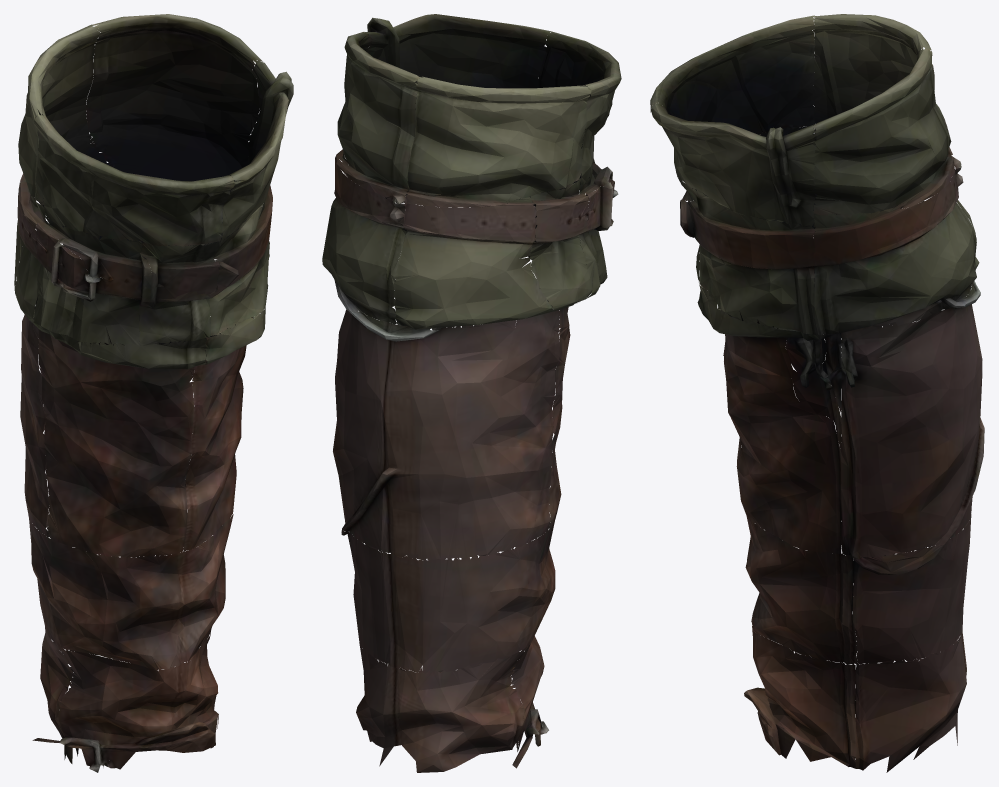
The model's file is a_ranger_boots_L_shaft.glb.
3 views of the same model, side by side, from view 1: azimuth 30°, elevation 25°; view 2: azimuth 150°, elevation 25°; view 3: azimuth 270°, elevation 25° (orthographic).
Visible parts, largest first — view 1: geometry_0.001; view 2: geometry_0.001; view 3: geometry_0.001.
Boxes of the visible parts, box(x1,y1,x2,y2) form: geometry_0.001: box(14, 14, 293, 772); geometry_0.001: box(322, 14, 621, 772); geometry_0.001: box(650, 14, 984, 772).
Size of the model in its own units: 0.1352 by 0.3677 by 0.1616.
1 material, 1 textured.
